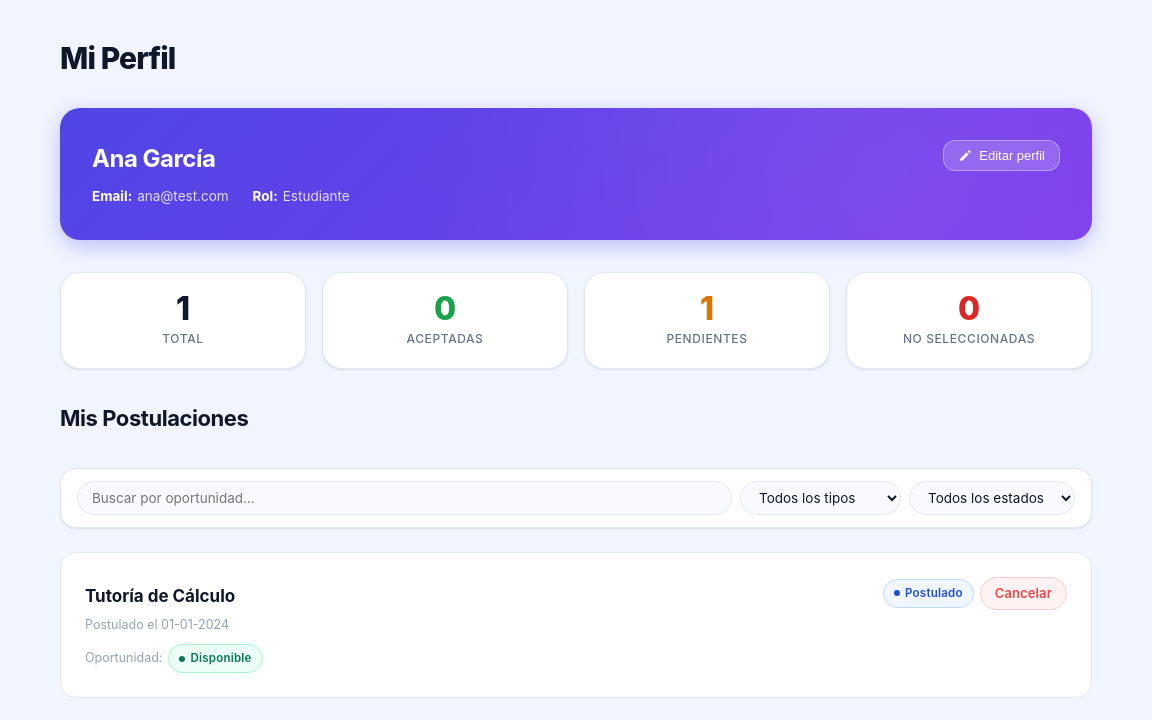
Test: ProfilePage edge cases › cancels an application and updates the status badge
The width and height of the screenshot is (1152, 720).
Click the button with test id "btn-cancel-application".
click(1023, 594)  # box [980,577,1067,610]
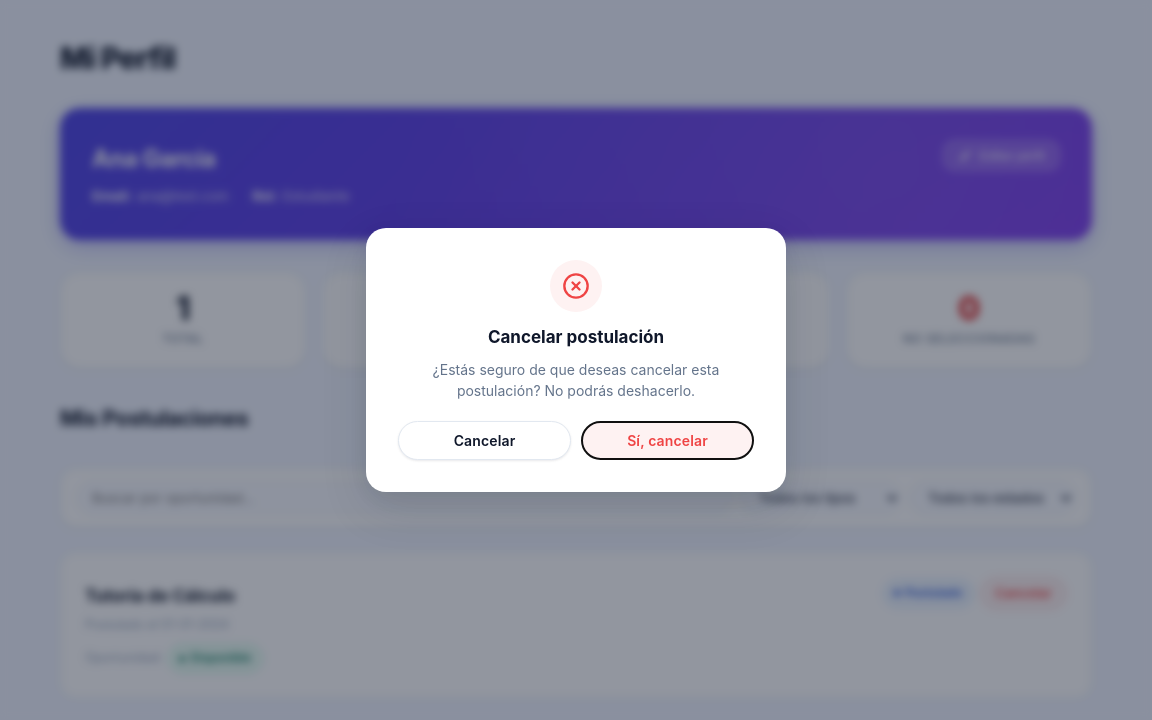
Click the button "Sí, cancelar".
click(668, 441)  # box [581,421,754,460]
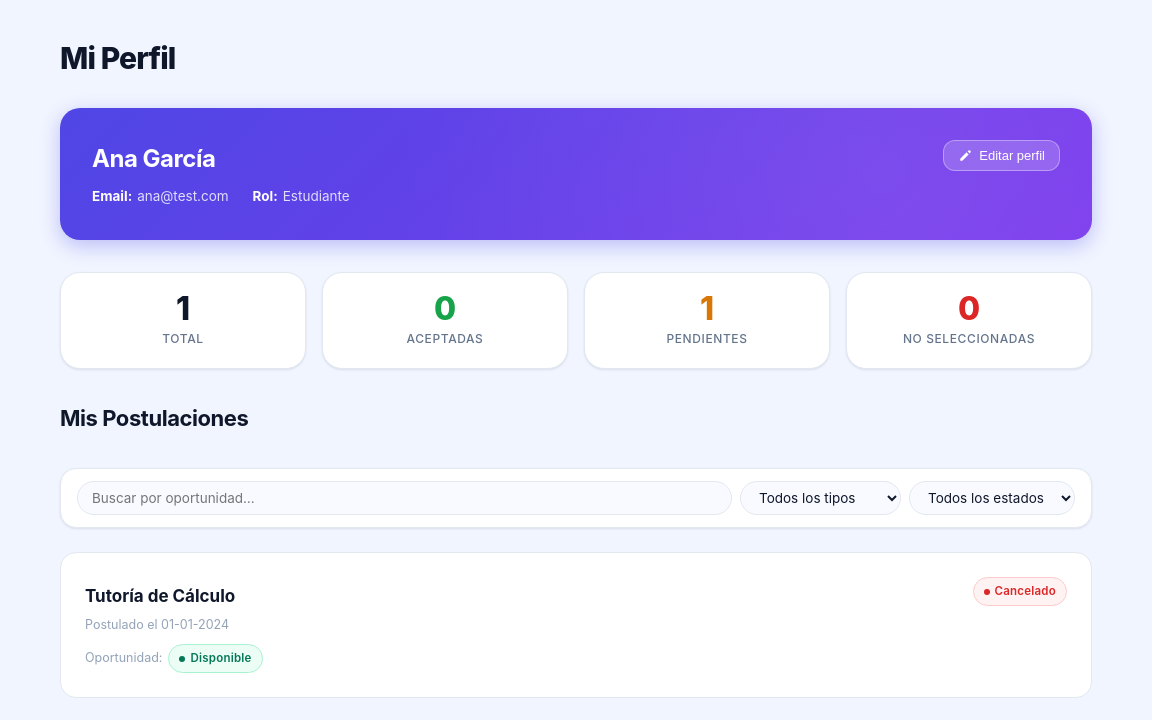
expect the text with test id "application-status" reads "Cancelado": met, box [994,584,1056,598]
